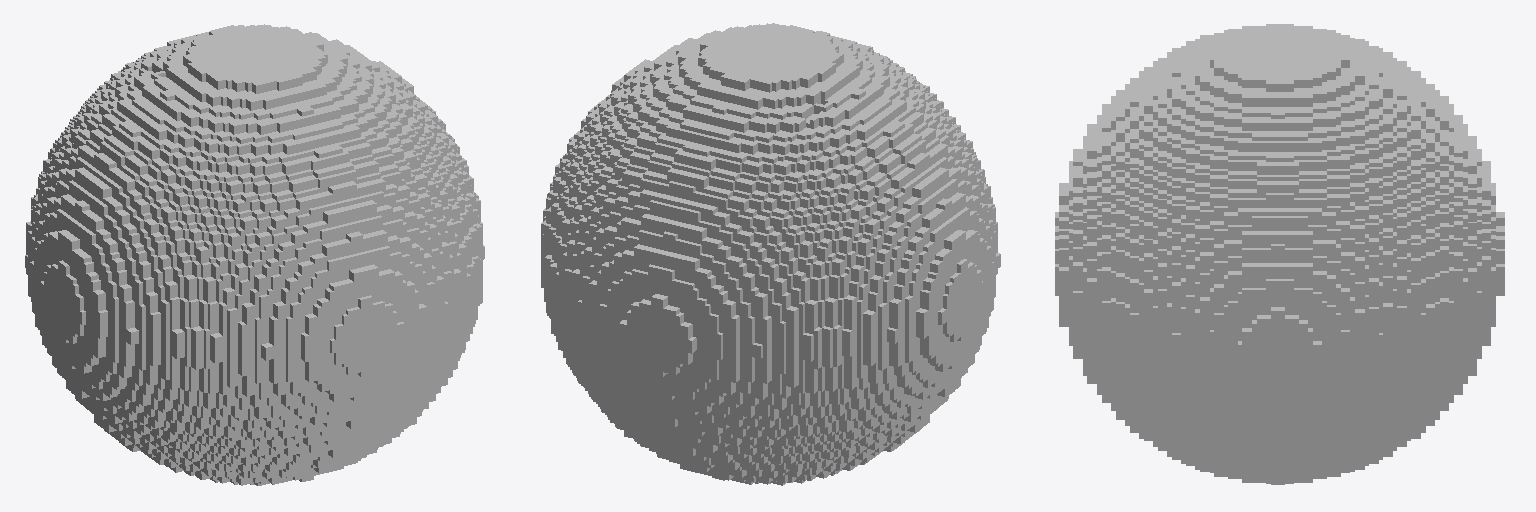
Rendered from Lechuga 1.obj.
3 views of the same model, side by side, from view 1: azimuth 30°, elevation 25°; view 2: azimuth 150°, elevation 25°; view 3: azimuth 270°, elevation 25° (orthographic).
Visible parts, largest first — view 1: object 1; view 2: object 1; view 3: object 1.
Boxes of the visible parts, box(x1,y1,x2,y2) form: object 1: box(25, 24, 484, 485); object 1: box(541, 23, 1000, 485); object 1: box(1055, 24, 1504, 484).
Bounding box in the file's own units: 9.6 × 9.5 × 9.6.